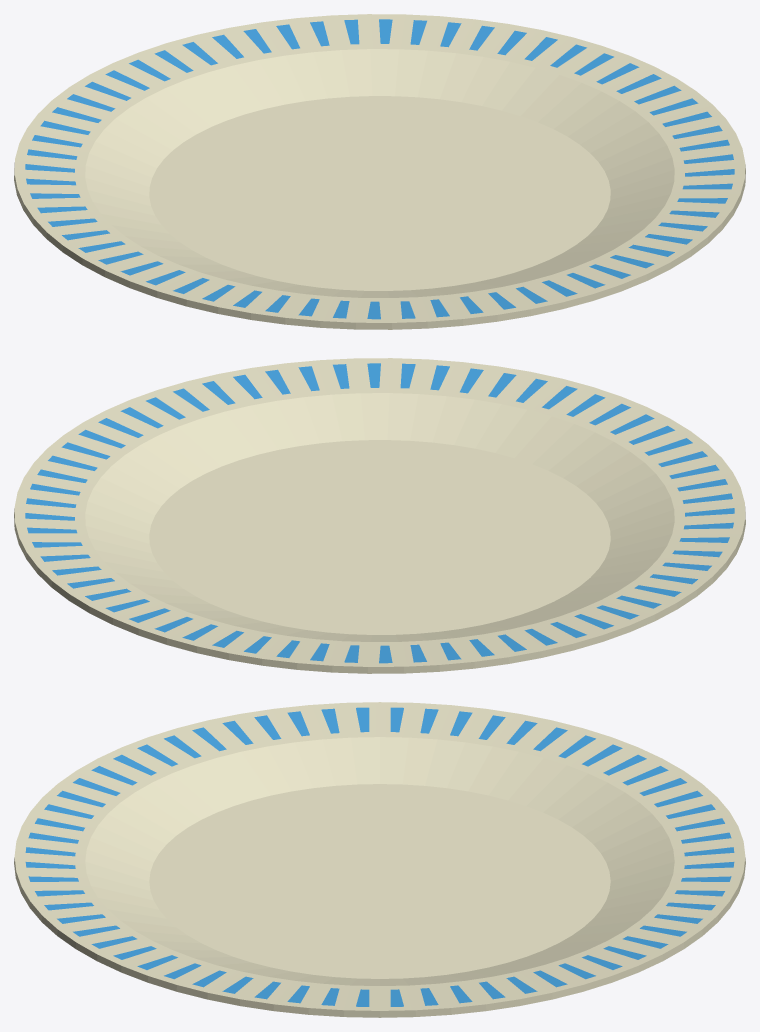
The model's file is Plato.fbx.
3 renders of one model, top to bottom at view 1: azimuth 30°, elevation 25°; view 2: azimuth 150°, elevation 25°; view 3: azimuth 270°, elevation 25°, orthographic.
Parts seen in each view (by area): view 1: Plato; view 2: Plato; view 3: Plato.
Boxes of the visible parts, x1=… form: Plato: x1=14, y1=14, x2=745, y2=329; Plato: x1=14, y1=358, x2=745, y2=673; Plato: x1=14, y1=702, x2=745, y2=1017.
Size of the model in its own units: 200 by 7.53 by 200.
